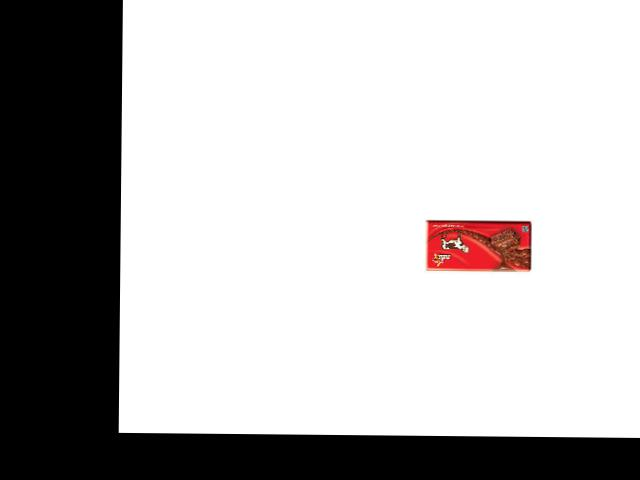chocolate: (422, 214, 534, 273)
